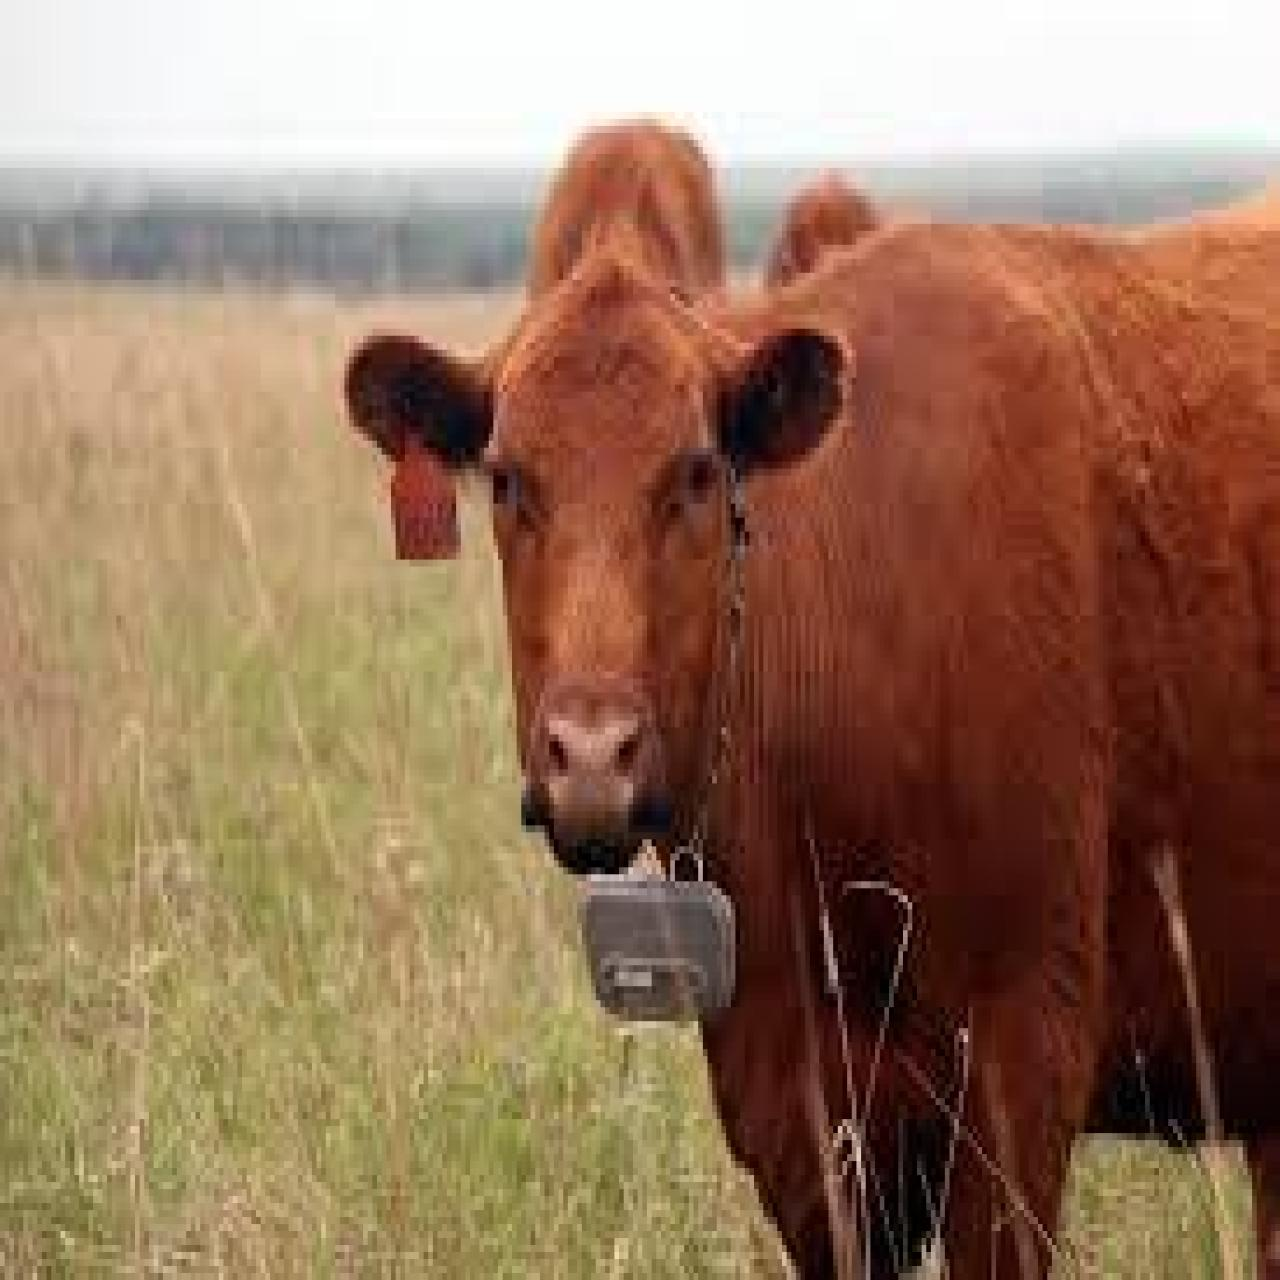cow: (349, 231, 1280, 1280)
